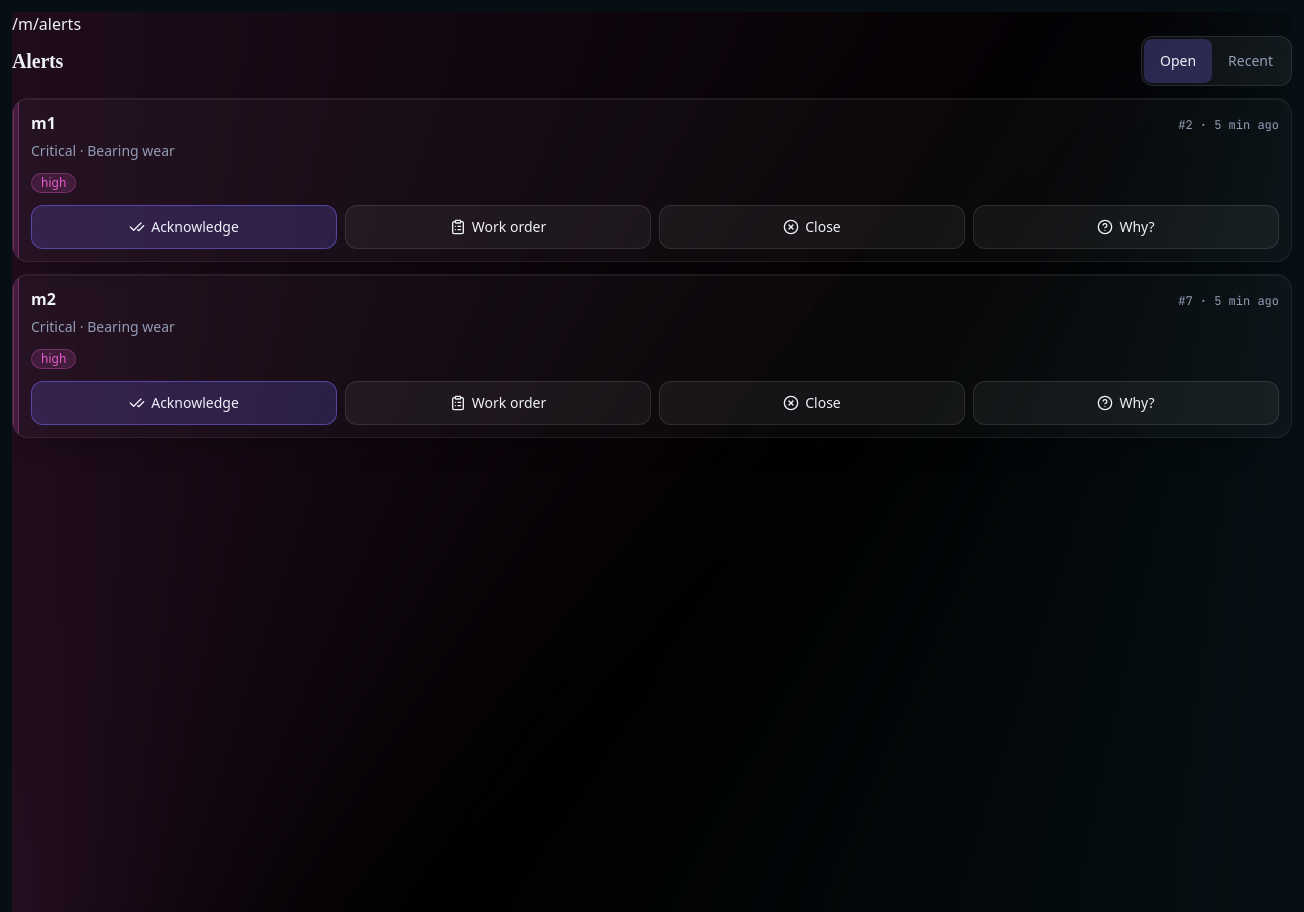
Test: MobileAlertsPage › re-fetches on a live alert event while keeping a pending acknowledgement
The image size is (1304, 912).
Click the button with aria-label "Acknowledge alert #2".
click(184, 227)  # box [31,205,337,249]
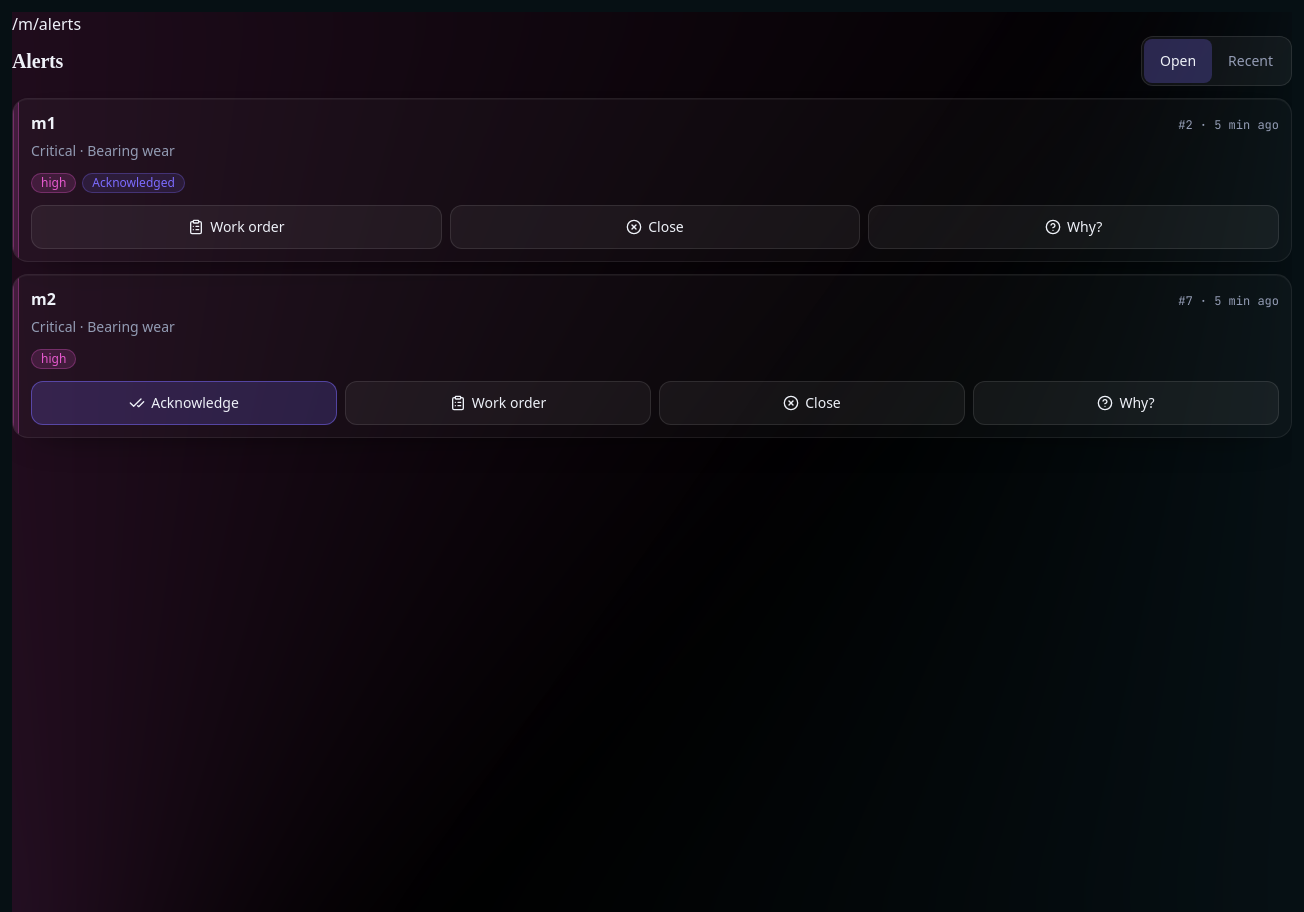
Check: the text "Acknowledged" is shown, box [82,173,185,193]
